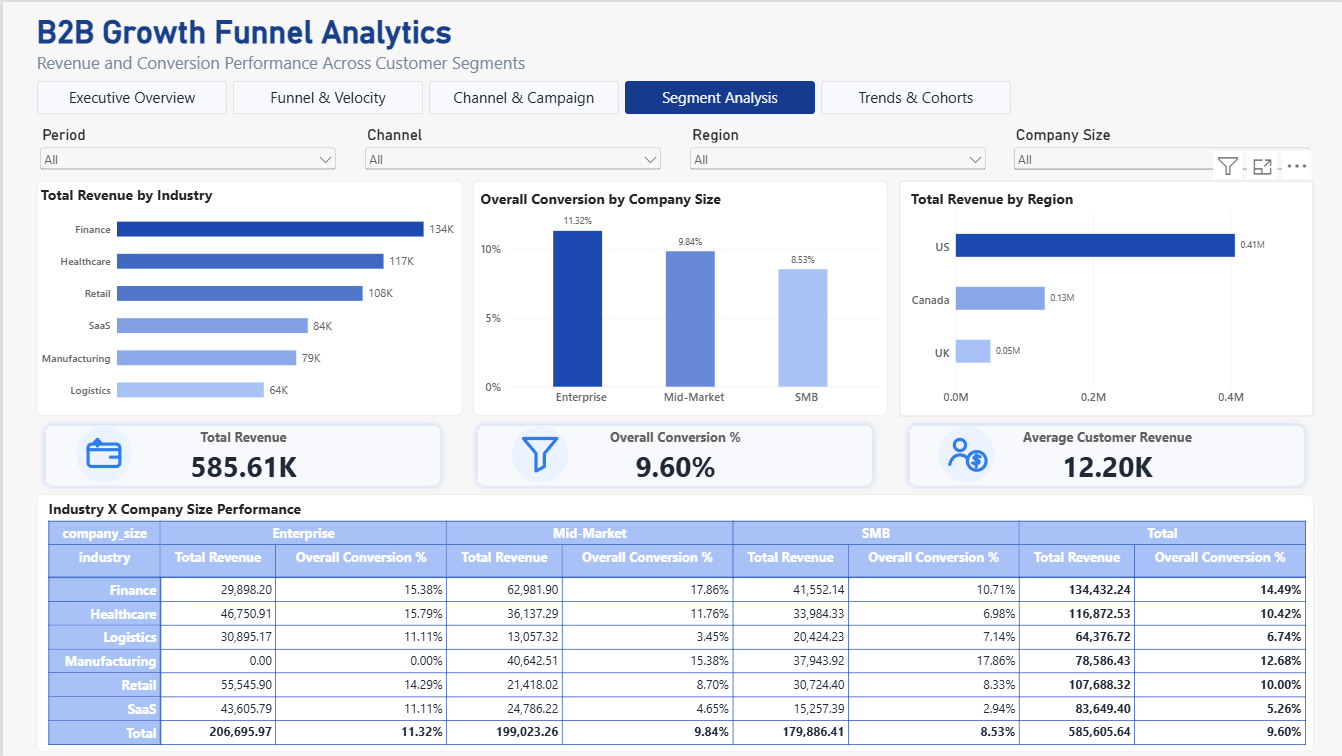

The dashboard page shown, as its layout file describes it:
{"tool":"powerbi","page":{"name":"Segment Analysis","canvas":[1920,1080],"ordinal":3},"visuals":[{"type":"slicer","fields":{"Values":["Date.Year Month"]},"box":[48,176,432,80],"z":0},{"type":"slicer","fields":{"Values":["Lead Funnel.channel"]},"box":[512,176,432,80],"z":1000},{"type":"slicer","fields":{"Values":["Lead Funnel.region"]},"box":[976,176,432,80],"z":2000},{"type":"slicer","fields":{"Values":["Lead Funnel.company_size"]},"box":[1440,176,432,80],"z":3000},{"type":"pageNavigator","box":[48,112,1392,48],"z":4000},{"type":"textbox","title":"B2B Growth Funnel Analytics","box":[48,16,752,96],"z":5000},{"type":"barChart","title":"Total Revenue by Industry","fields":{"Category":["Lead Funnel.industry"],"Y":["Lead Funnel.Total Revenue"]},"box":[48,256,608,336],"z":6000},{"type":"clusteredColumnChart","title":"Overall Conversion by Company Size","fields":{"Category":["Lead Funnel.company_size"],"Y":["Lead Funnel.Overall Conversion %"]},"box":[672,256,592,336],"z":7000},{"type":"barChart","title":"Total Revenue by Region","fields":{"Category":["Lead Funnel.region"],"Y":["Lead Funnel.Total Revenue"]},"box":[1280,256,592,336],"z":8000},{"type":"pivotTable","title":"Industry X Company Size Performance","fields":{"Columns":["Lead Funnel.company_size"],"Rows":["Lead Funnel.industry"],"Values":["Lead Funnel.Total Revenue","Lead Funnel.Overall Conversion %"]},"box":[48,704,1824,368],"z":9000},{"type":"cardVisual","fields":{"Data":["Lead Funnel.Total Revenue","Lead Funnel.Overall Conversion %","Lead Funnel.Average Customer Revenue"]},"box":[48,592,1824,112],"z":10000},{"type":"image","box":[48,598,192,96],"z":10001},{"type":"image","box":[672,598,192,96],"z":10002},{"type":"image","box":[1280,598,192,96],"z":10003}]}

Visuals, with their boxes in screenshot pixels (x1, y1, x2, y2), scaled from the page's 1920x1080 canvas onto the 1342x756 screenshot:
slicer - Date.Year Month: [34,123,336,179]
slicer - Lead Funnel.channel: [358,123,660,179]
slicer - Lead Funnel.region: [682,123,984,179]
slicer - Lead Funnel.company_size: [1006,123,1308,179]
pageNavigator: [34,78,1006,112]
"B2B Growth Funnel Analytics" textbox: [34,11,559,78]
"Total Revenue by Industry" barChart: [34,179,459,414]
"Overall Conversion by Company Size" clusteredColumnChart: [470,179,883,414]
"Total Revenue by Region" barChart: [895,179,1308,414]
"Industry X Company Size Performance" pivotTable: [34,493,1308,750]
cardVisual - Lead Funnel.Total Revenue x Lead Funnel.Overall Conversion %: [34,414,1308,493]
image: [34,419,168,486]
image: [470,419,604,486]
image: [895,419,1029,486]
